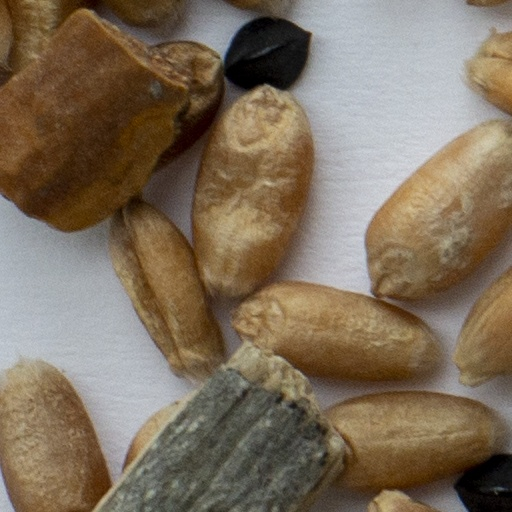Fallopia-Сonvolvulus-poly: (224, 19, 310, 89), (456, 455, 511, 511)
Peel-poly: (0, 19, 222, 230), (99, 354, 337, 511)
